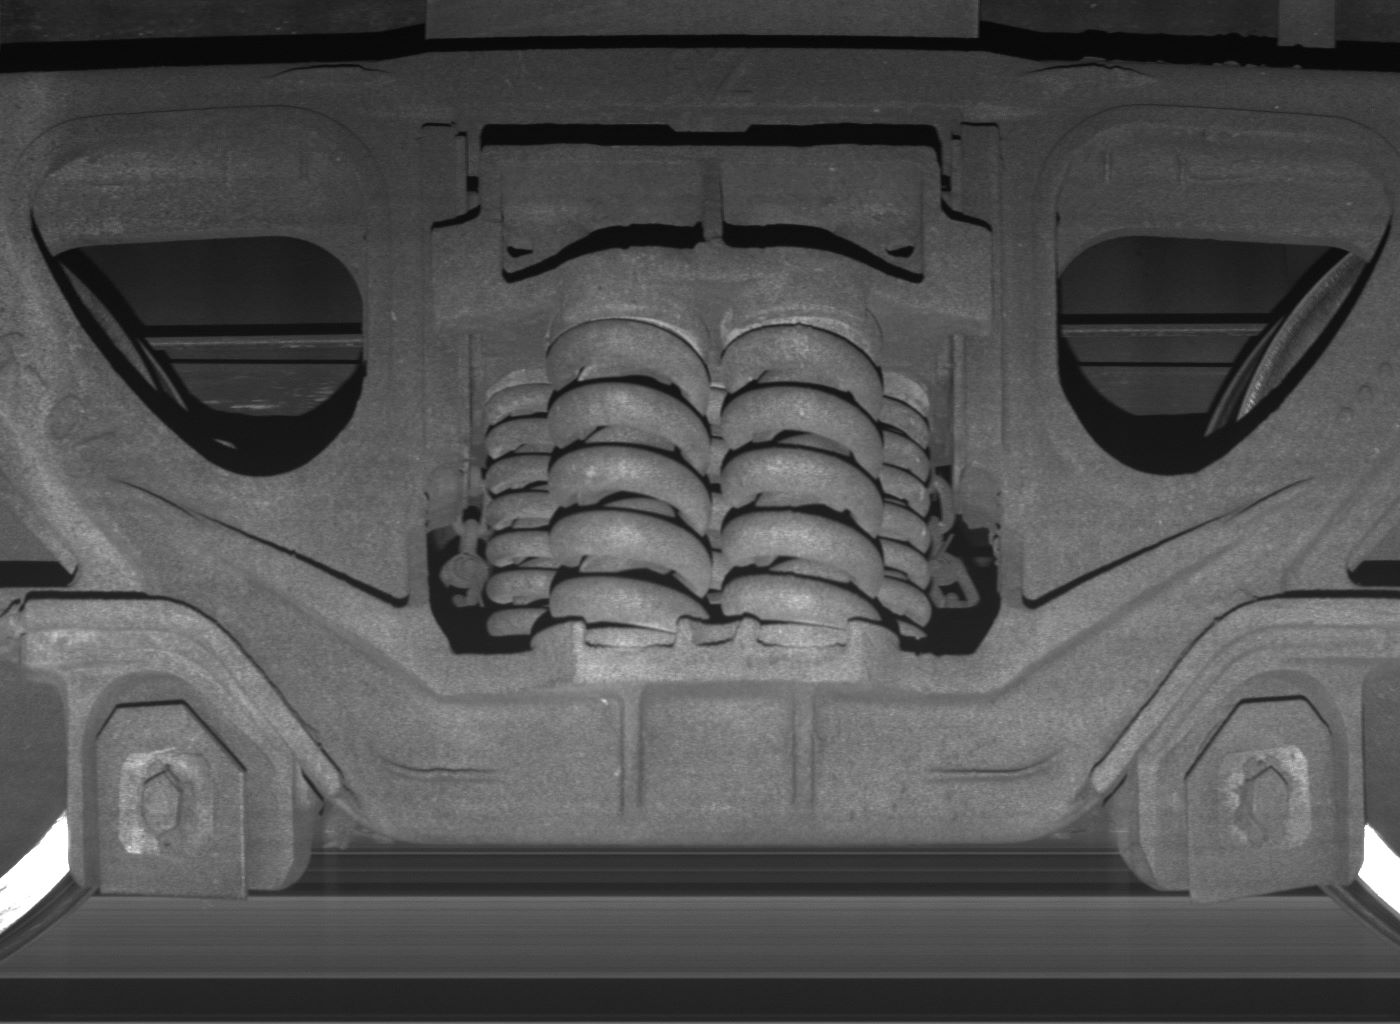Locking plate: (1134, 670, 1365, 901)
normal: (68, 671, 293, 899)
